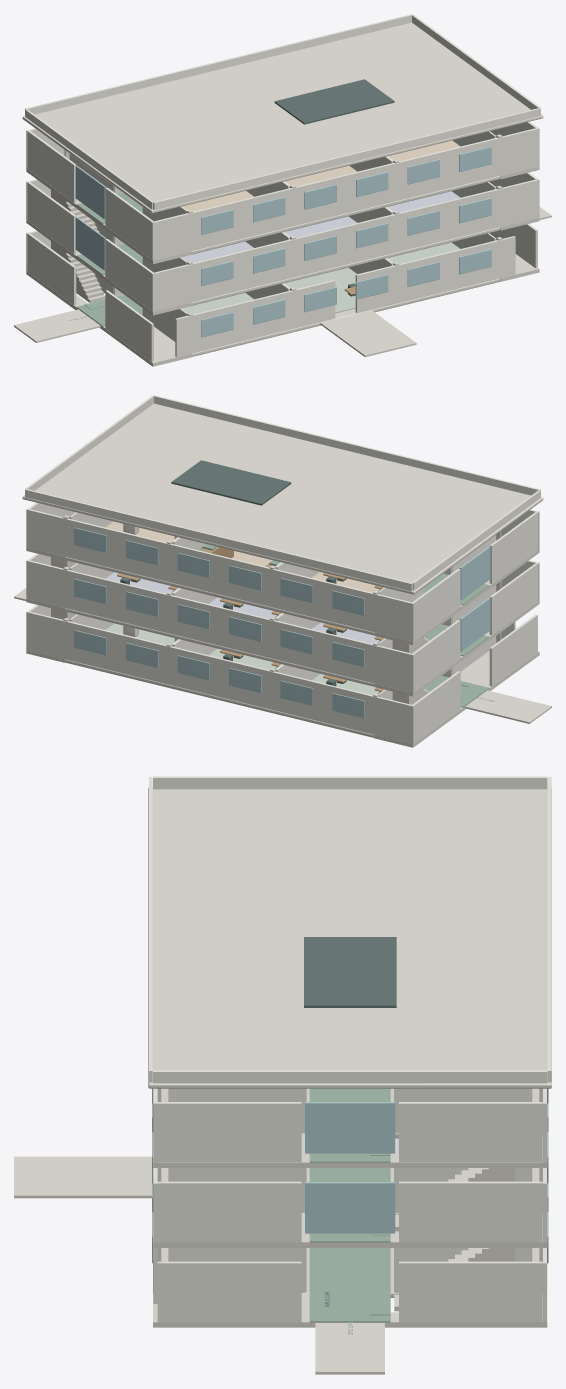
Rendered from building.glb.
The picture shows the model from 3 angles, top to bottom: view 1: azimuth 30°, elevation 25°; view 2: azimuth 150°, elevation 25°; view 3: azimuth 270°, elevation 25°; orthographic projection. The views are drawn at different scales.
Visible parts, largest first — view 1: Roof slab.001, Facade.009, Facade.007, Entrance facade.002, Entrance facade.003, Roof parapet.005, Roof parapet.004, Solar panel.001, Entrance path.001, Side facade.012, Side facade.013, Side facade.016 (+44 smaller); view 2: Roof slab.001, Facade.005, Facade.008, Facade.006, Roof parapet.004, Roof parapet.005, Solar panel.001, Side facade.013, Side facade.017, Side facade.021, Side facade.012, Side facade.016 (+37 smaller); view 3: Roof slab.001, Side facade.015, Side facade.019, Side facade.014, Side facade.018, Side facade.023, Side facade.022, Solar panel.001, Entrance path.001, Corridor 0.001, Roof parapet.006, Roof parapet.007 (+19 smaller).
Part boxes in pixels (bbox=[...]): Roof slab.001: bbox=[22, 22, 543, 213]; Facade.009: bbox=[151, 127, 539, 260]; Facade.007: bbox=[151, 179, 539, 311]; Entrance facade.002: bbox=[175, 280, 335, 357]; Entrance facade.003: bbox=[355, 236, 515, 313]; Roof parapet.005: bbox=[153, 108, 540, 210]; Roof parapet.004: bbox=[25, 14, 412, 115]; Solar panel.001: bbox=[274, 79, 394, 124]; Entrance path.001: bbox=[320, 310, 416, 357]; Side facade.012: bbox=[28, 233, 76, 305]; Side facade.013: bbox=[105, 290, 153, 361]; Side facade.016: bbox=[28, 182, 76, 254]; Roof slab.001: bbox=[22, 403, 543, 594]; Facade.005: bbox=[26, 611, 414, 743]; Facade.008: bbox=[26, 508, 414, 641]; Facade.006: bbox=[26, 560, 414, 692]; Roof parapet.004: bbox=[25, 489, 412, 591]; Roof parapet.005: bbox=[153, 395, 540, 496]; Solar panel.001: bbox=[171, 460, 291, 505]; Side facade.013: bbox=[489, 614, 537, 686]; Side facade.017: bbox=[489, 563, 537, 635]; Side facade.021: bbox=[489, 512, 537, 583]; Side facade.012: bbox=[412, 671, 460, 742]; Side facade.016: bbox=[412, 620, 460, 691]; Roof slab.001: bbox=[148, 787, 551, 1088]; Side facade.015: bbox=[157, 1261, 301, 1322]; Side facade.019: bbox=[157, 1181, 301, 1242]; Side facade.014: bbox=[399, 1261, 542, 1322]; Side facade.018: bbox=[399, 1181, 542, 1242]; Side facade.023: bbox=[157, 1102, 301, 1162]; Side facade.022: bbox=[399, 1102, 542, 1162]; Solar panel.001: bbox=[304, 937, 396, 1007]; Entrance path.001: bbox=[14, 1156, 151, 1198]; Corridor 0.001: bbox=[309, 1248, 390, 1322]; Roof parapet.006: bbox=[153, 776, 547, 789]; Roof parapet.007: bbox=[153, 1070, 547, 1083].
Size of the model in its own units: 40 by 12.21 by 23.2.
